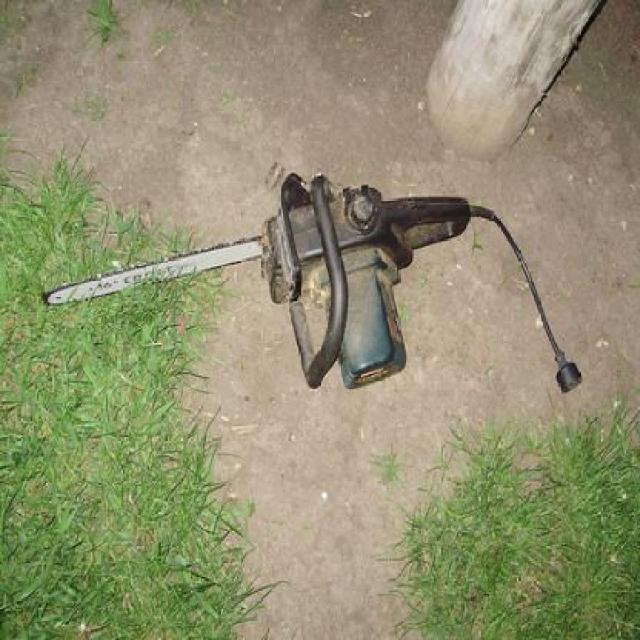Chainsaw: (40, 172, 580, 394)
